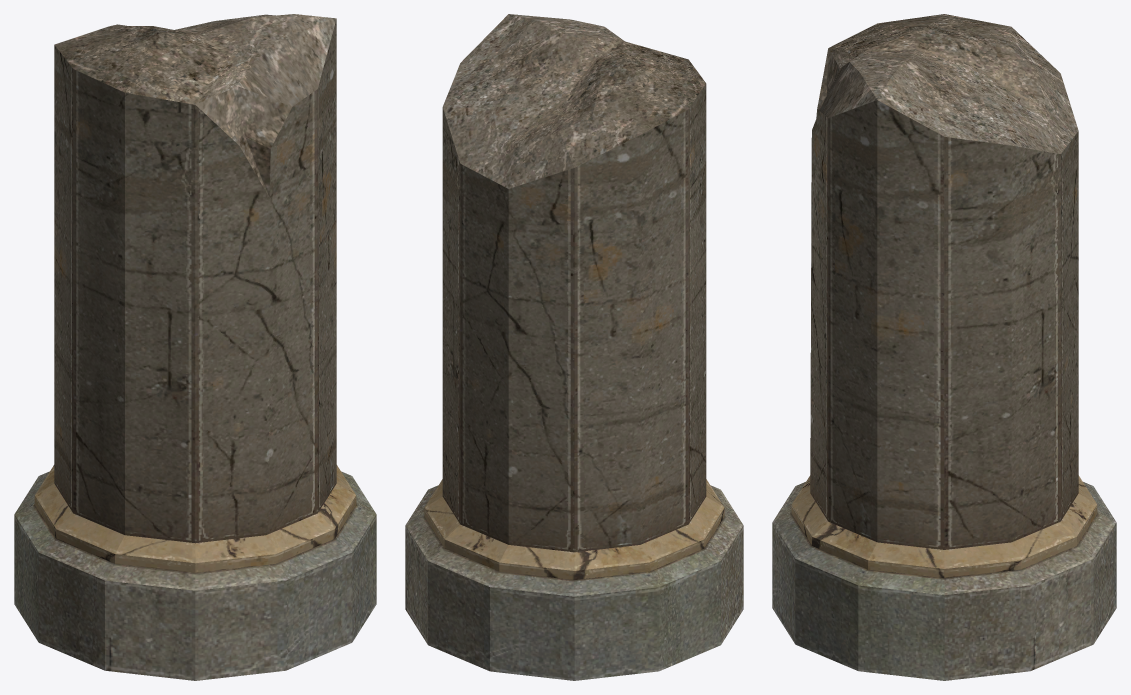
The model's file is bg_lut_lutomb_pillar07_sm_old.FBX.
The picture shows the model from 3 angles, left to right: view 1: azimuth 30°, elevation 25°; view 2: azimuth 150°, elevation 25°; view 3: azimuth 270°, elevation 25°; orthographic projection. The views are drawn at different scales.
Parts seen in each view (by area): view 1: bg_lut_lutomb_pillar07_sm_old; view 2: bg_lut_lutomb_pillar07_sm_old; view 3: bg_lut_lutomb_pillar07_sm_old.
Part boxes in pixels (x1,y1,x2,y2): bg_lut_lutomb_pillar07_sm_old: (14, 14, 376, 680); bg_lut_lutomb_pillar07_sm_old: (405, 14, 743, 680); bg_lut_lutomb_pillar07_sm_old: (772, 14, 1116, 680).
Size of the model in its own units: 52.82 by 95.54 by 52.82.
